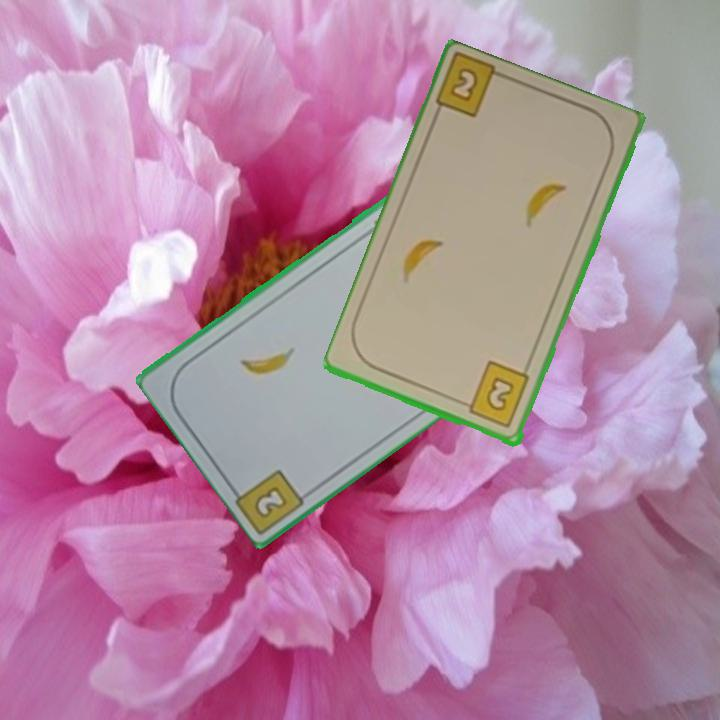2b: (458, 358, 533, 431), (250, 482, 291, 521), (446, 64, 482, 106)
